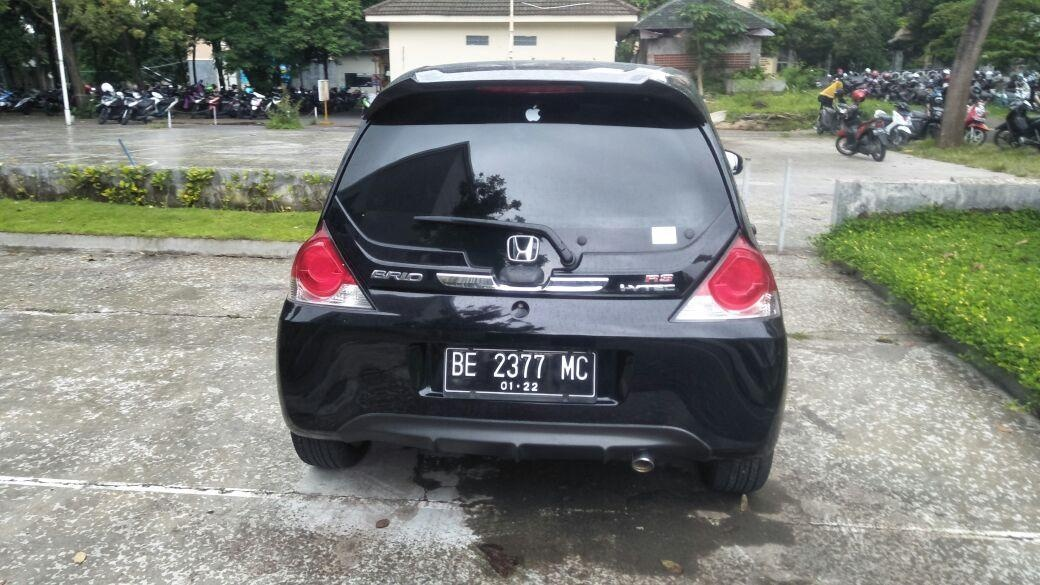plate: (440, 345, 598, 397)
